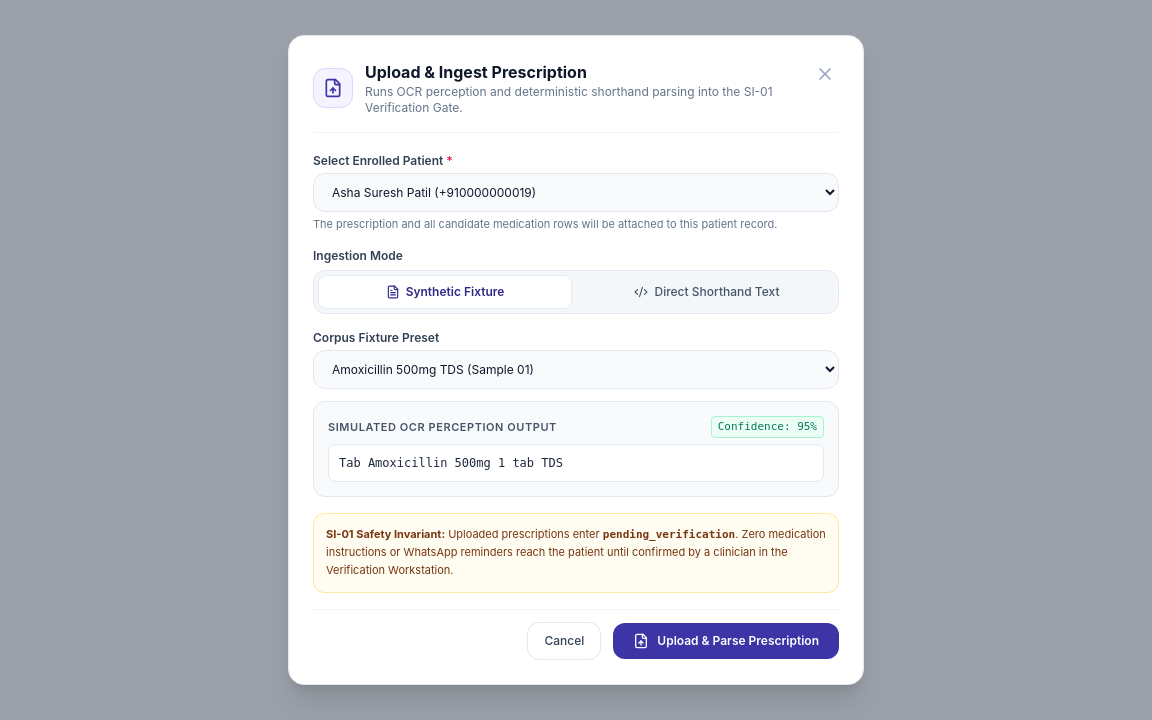
Test: UploadPrescriptionModal Component › 8. Displays error banner when API returns ApiClientError
Step 1. Click the button "Upload & Parse Prescription" → point(726, 641), box [613,623,839,659]
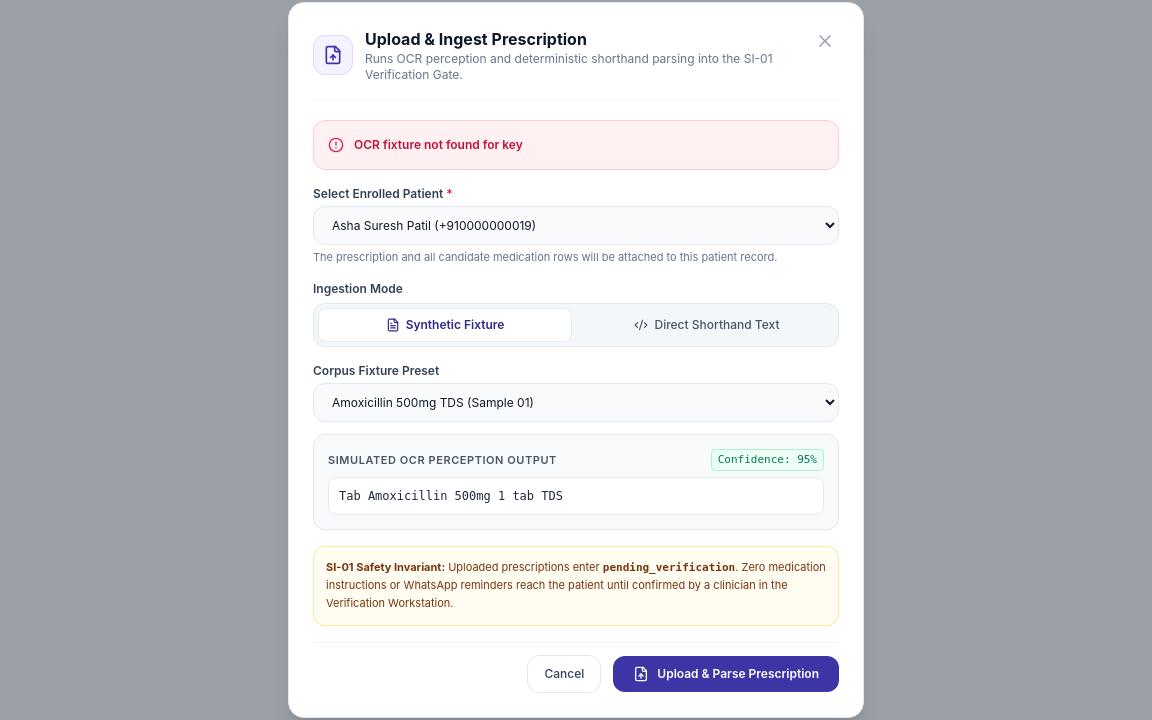
Expected: the text "OCR fixture not found for key" is shown, [354,135,523,155]
